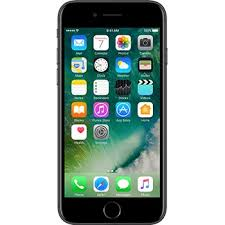iphone: (55, 1, 171, 223)
iphone7: (55, 1, 171, 223)
